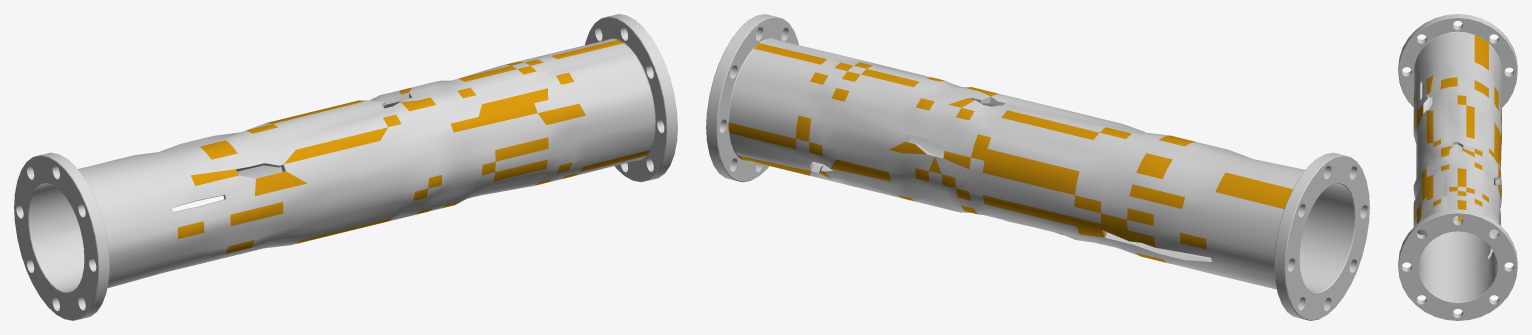
File: pipe old.fbx
3 views of the same model, side by side, from view 1: azimuth 30°, elevation 25°; view 2: azimuth 150°, elevation 25°; view 3: azimuth 270°, elevation 25° (orthographic). The views are drawn at different scales.
Parts seen in each view (by area): view 1: Cylinder; view 2: Cylinder; view 3: Cylinder.
Part boxes in pixels (x1,y1,x2,y2): Cylinder: (14,14,677,320); Cylinder: (706,14,1369,320); Cylinder: (1398,14,1517,320).
Size of the model in its own units: 593 by 151 by 151.
